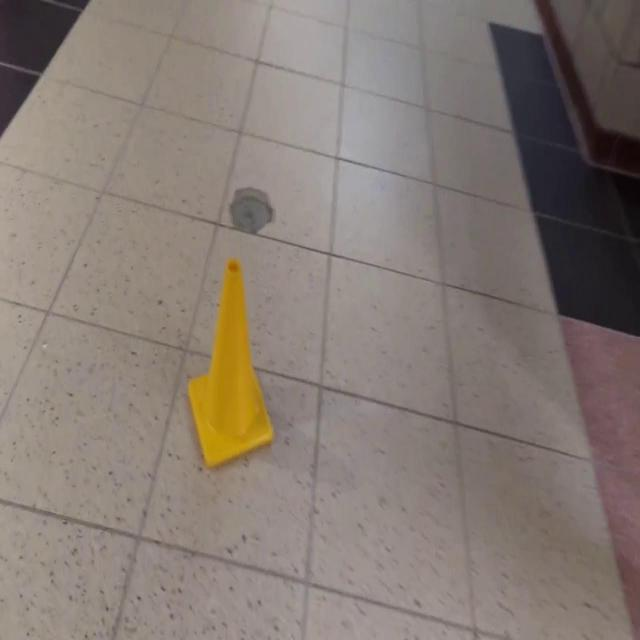frc_cone: (187, 256, 276, 471)
